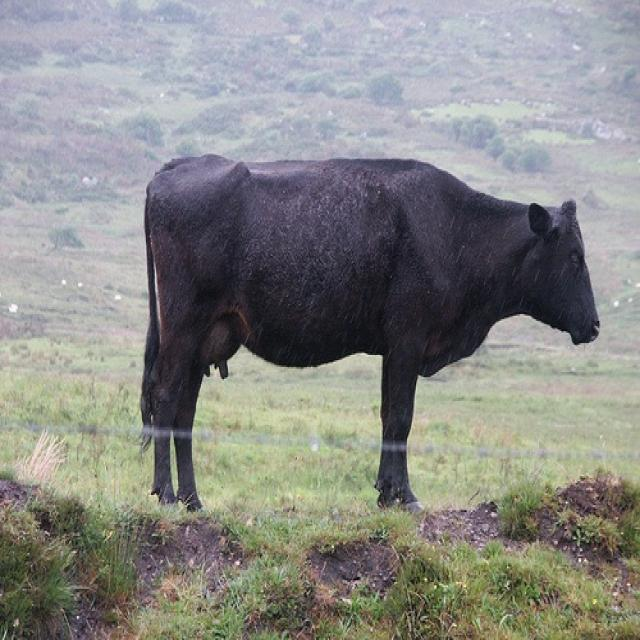cow: (141, 150, 603, 512)
